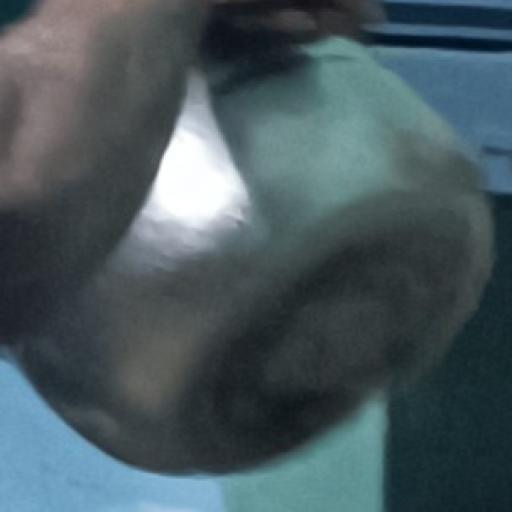vessel: (17, 38, 492, 471)
